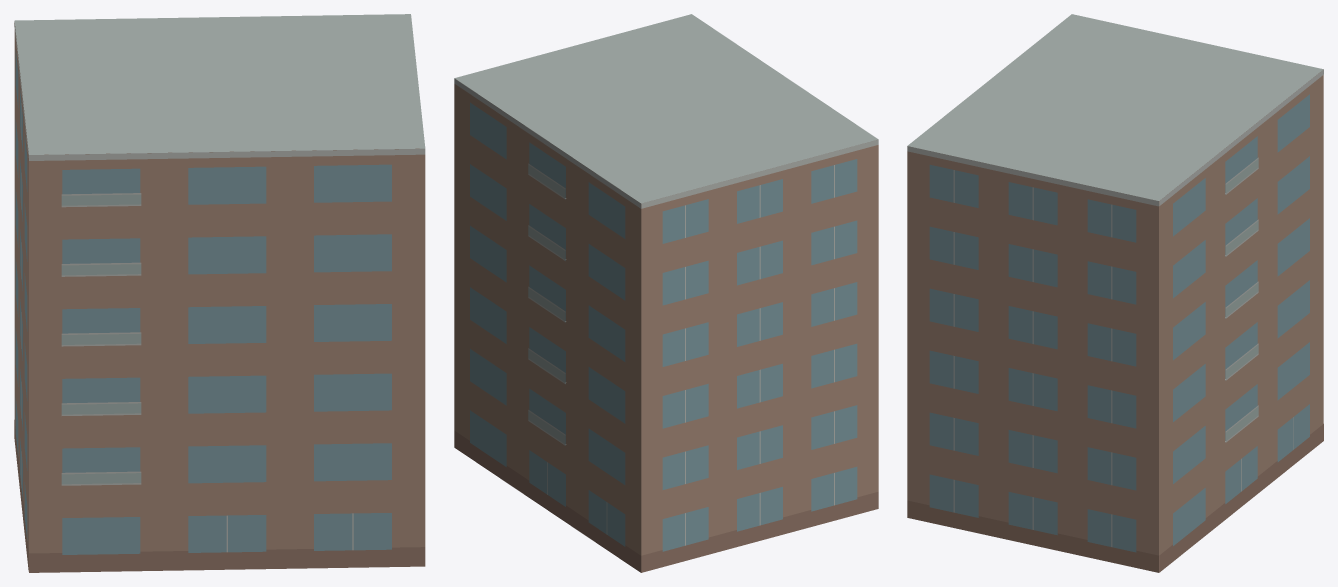
Rendered from survey-upis-32537515.glb.
3 renders of one model, left to right at view 1: azimuth 30°, elevation 25°; view 2: azimuth 150°, elevation 25°; view 3: azimuth 270°, elevation 25°, orthographic. The views are drawn at different scales.
Visible parts, largest first — view 1: survey-upis-32537515.tmp; view 2: survey-upis-32537515.tmp; view 3: survey-upis-32537515.tmp.
Boxes of the visible parts, x1,y1,x2,y2 form: survey-upis-32537515.tmp: [14, 14, 425, 572]; survey-upis-32537515.tmp: [454, 14, 878, 572]; survey-upis-32537515.tmp: [907, 14, 1323, 572].
Size of the model in its own units: 18.25 by 16.9 by 17.17.
